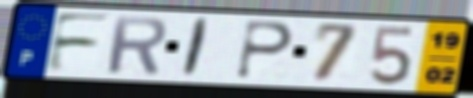5: (366, 24, 417, 87)
7: (310, 21, 363, 84)
F: (42, 10, 115, 74)
I: (178, 16, 213, 79)
P: (232, 18, 297, 81)
R: (105, 14, 170, 76)
